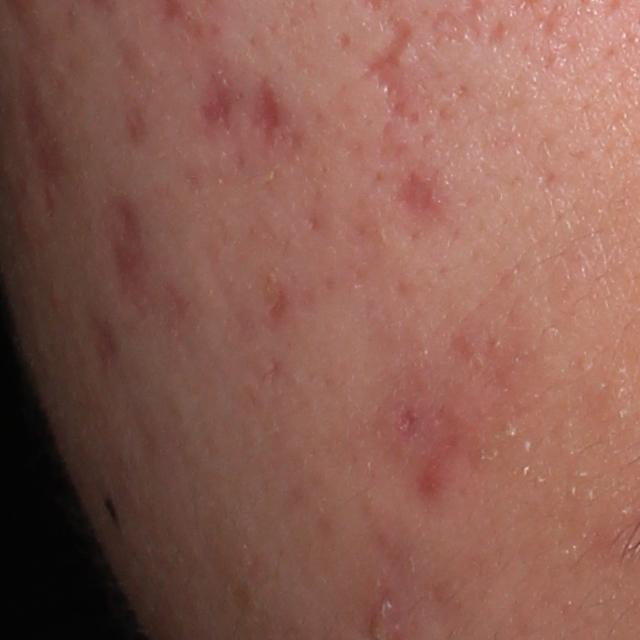atrophic_scar: (364, 12, 424, 127), (22, 80, 65, 214), (110, 190, 155, 301), (391, 168, 445, 228), (245, 77, 281, 151), (90, 310, 123, 367), (199, 86, 234, 130), (397, 405, 421, 435), (487, 20, 507, 48)
